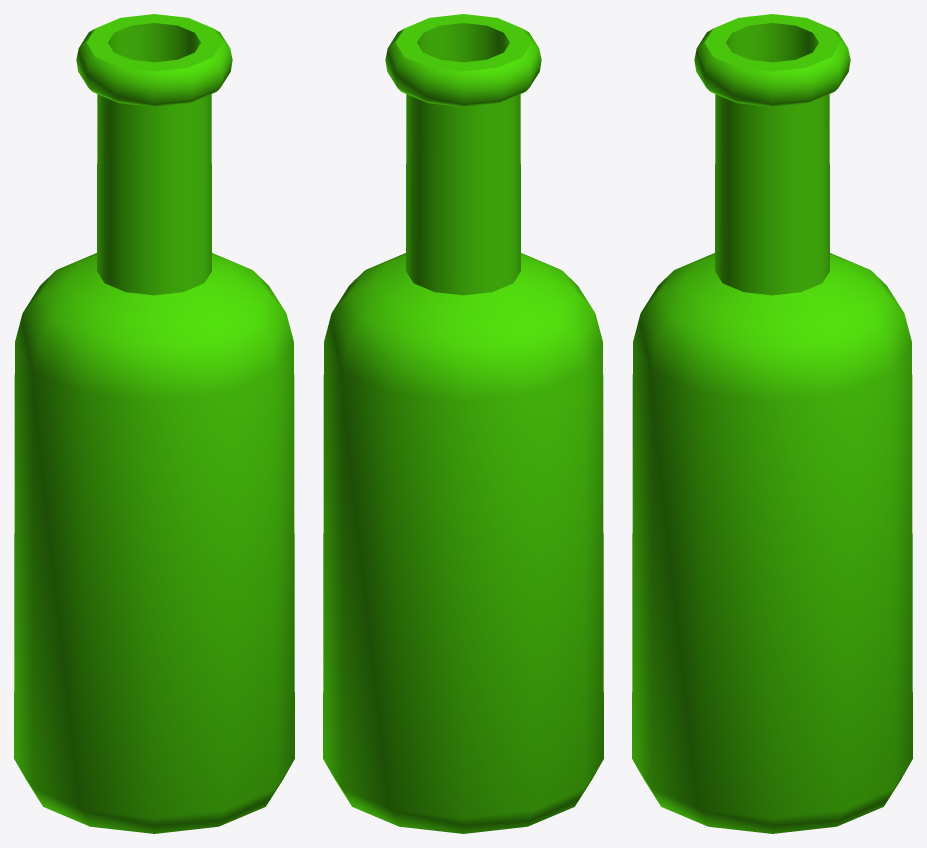
Rendered from Bottle.FBX.
3 renders of one model, left to right at view 1: azimuth 30°, elevation 25°; view 2: azimuth 150°, elevation 25°; view 3: azimuth 270°, elevation 25°, orthographic.
Parts seen in each view (by area): view 1: Bottle; view 2: Bottle; view 3: Bottle.
Part boxes in pixels (box(x1,y1,x2,y2)): Bottle: box(14, 14, 294, 833); Bottle: box(323, 14, 603, 833); Bottle: box(632, 14, 912, 833).
Bounding box in the file's own units: 1.4 × 4.12 × 1.4.
